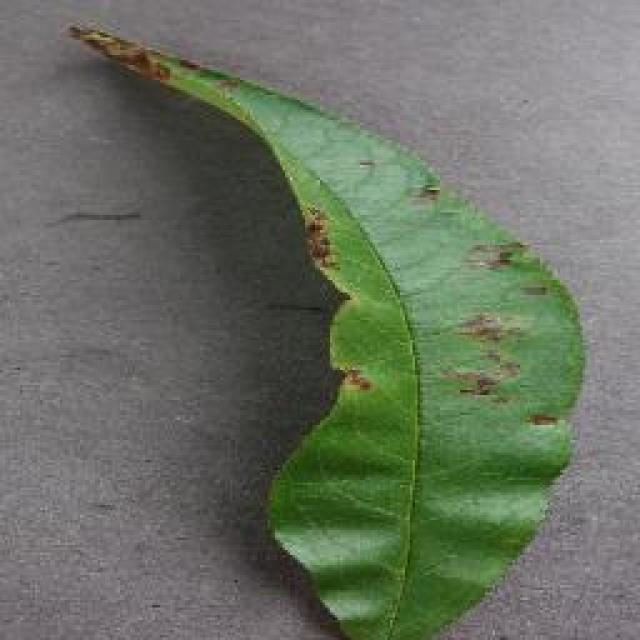Peach_Bacterial_Spot: (135, 8, 518, 440)
